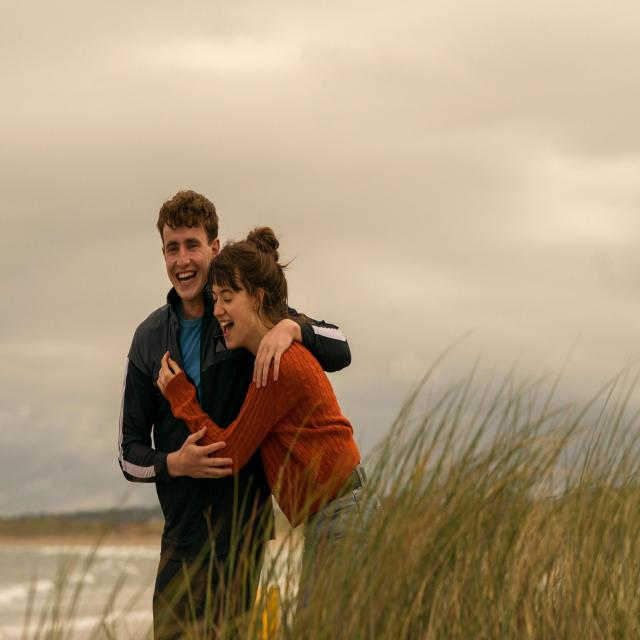adult: (116, 192, 352, 640), (158, 224, 385, 640)
